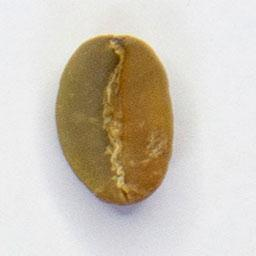defect: (52, 29, 177, 209)
